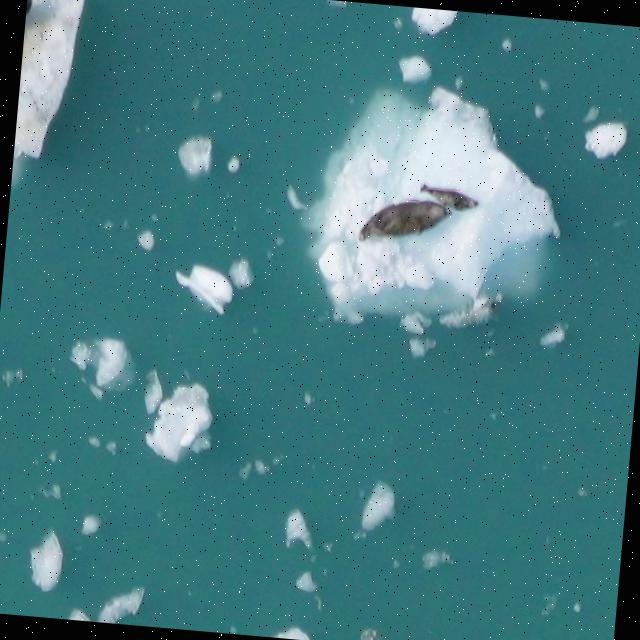seal: (354, 192, 453, 244), (419, 187, 477, 212)
